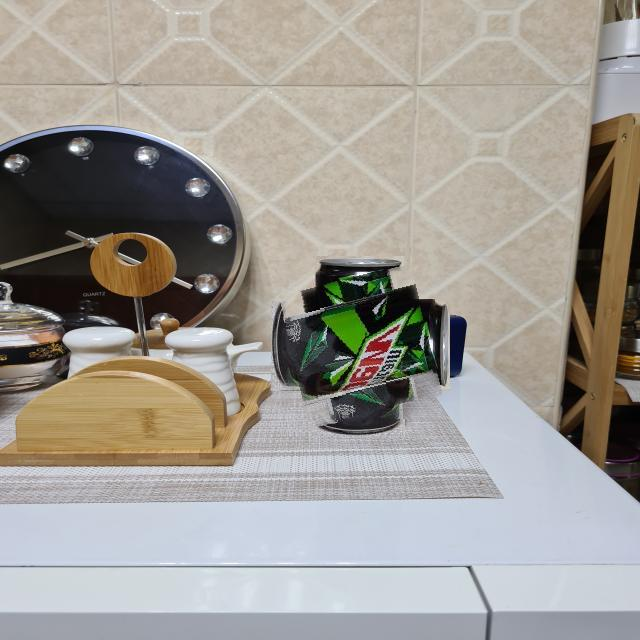recyclable: (286, 271, 435, 421)
